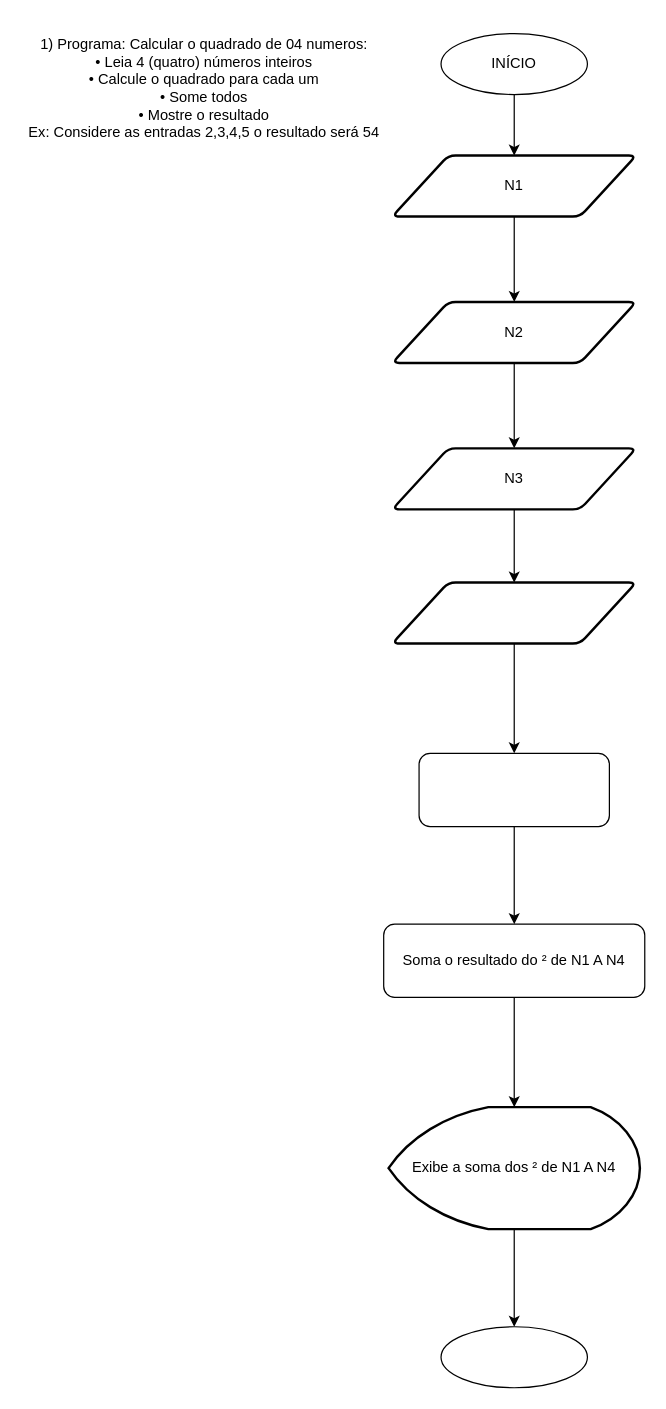
Image size: 666x1409. Some labels were removed from this diagram. Each missing label, with the centre of its shape:
"Calcula o ² de N1 A N4" belongs at point (513, 789).
"FIM" belongs at point (513, 1357).
"N4" belongs at point (513, 612).
